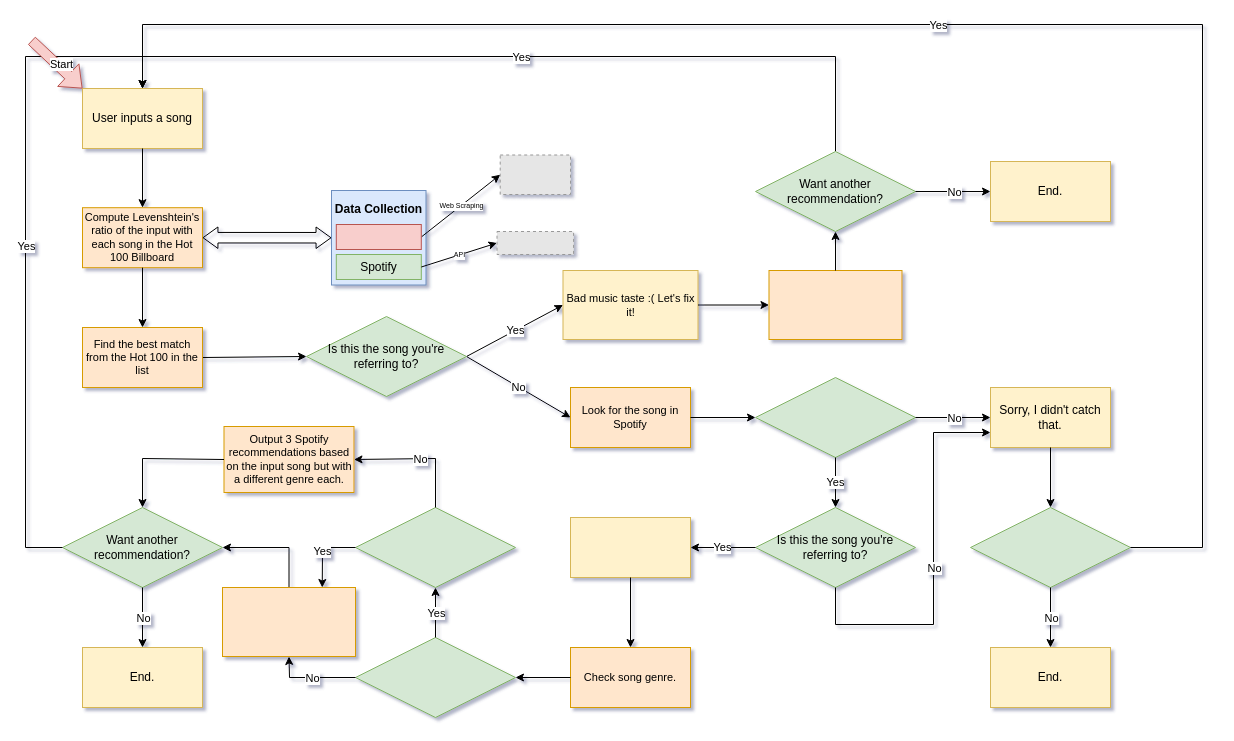
This 1234x741 diagram has some shape labels left out. Grey dashed boxes stand in for pictures. The centre of each missing label's shape, as x and y in pixels:
"Hot" Songs: [378,237]
Has genre?: [435,677]
Match?: [835,417]
Not a basic, mainstream song, nice choice!: [630,547]
Output 3 Spotify recommendations based only on input song.: [289,621]
Output 3 Spotify recommendations, each with a random genre.: [835,305]
Wanna try again?: [1050,547]
Want the same genre?: [435,547]
